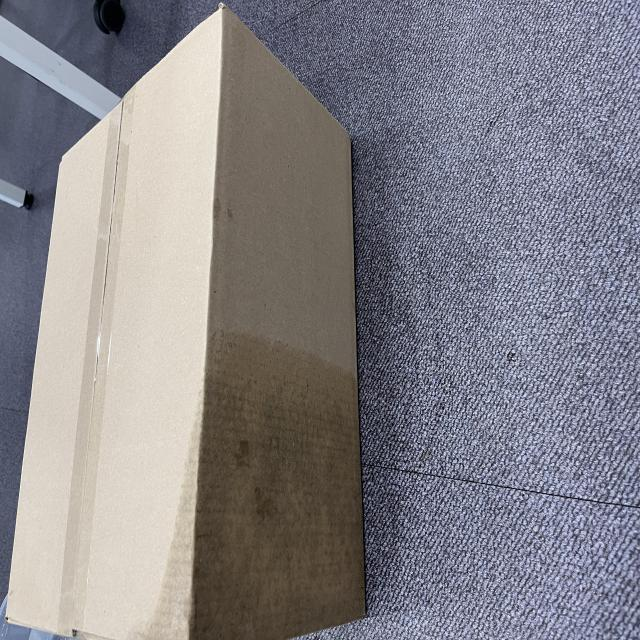wet: (3, 196, 235, 514)
